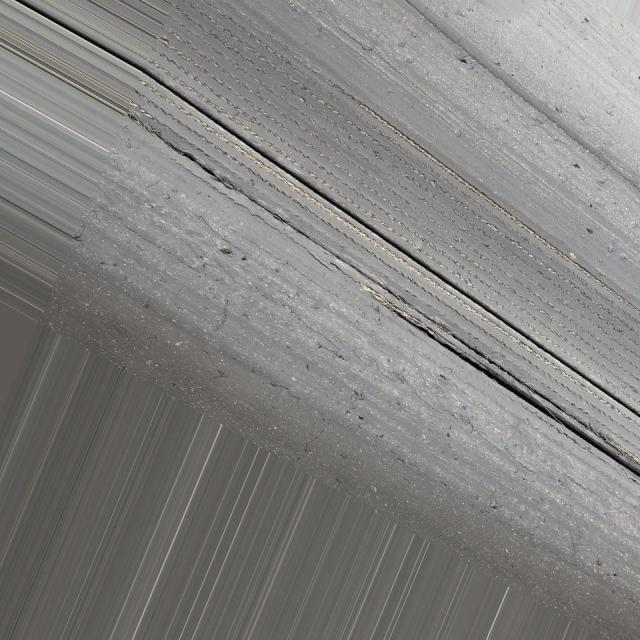Tear: (146, 115, 640, 487), (152, 68, 640, 438)
impact damage: (170, 0, 640, 415)
